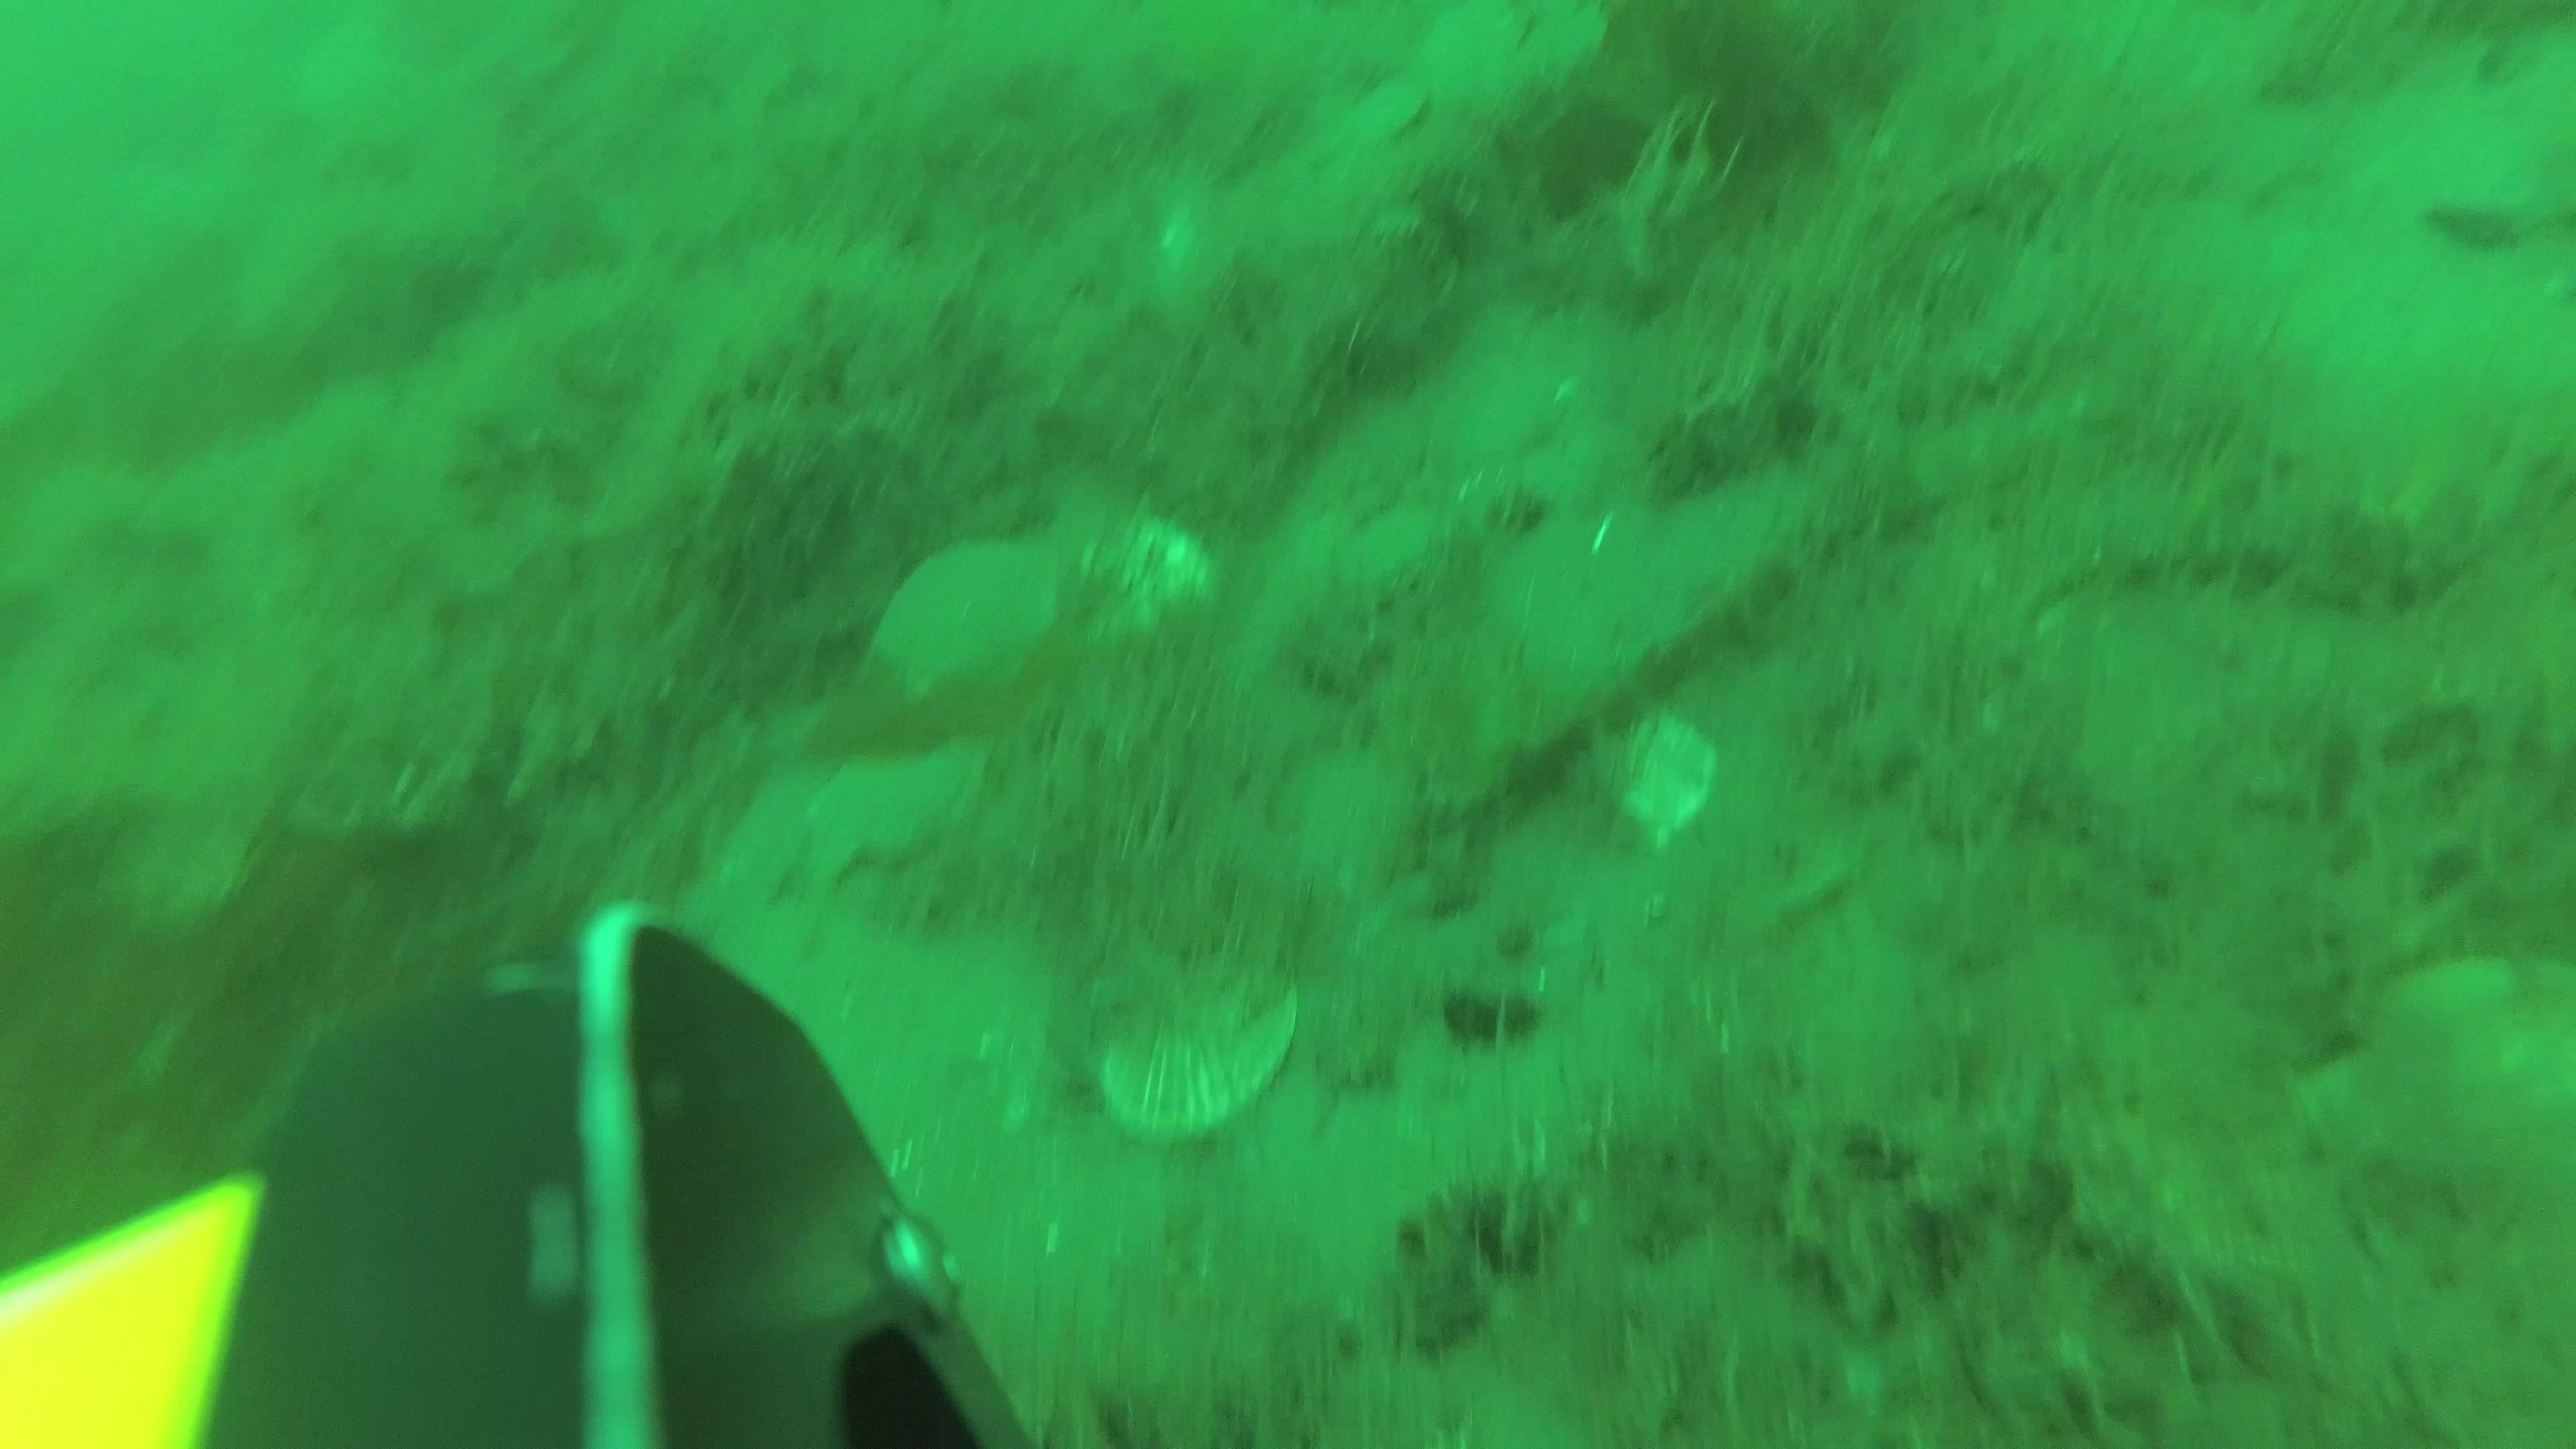scallop: (1095, 948, 1293, 1136), (803, 740, 978, 883), (876, 547, 1049, 681), (1596, 694, 1718, 851), (1086, 529, 1215, 646)
